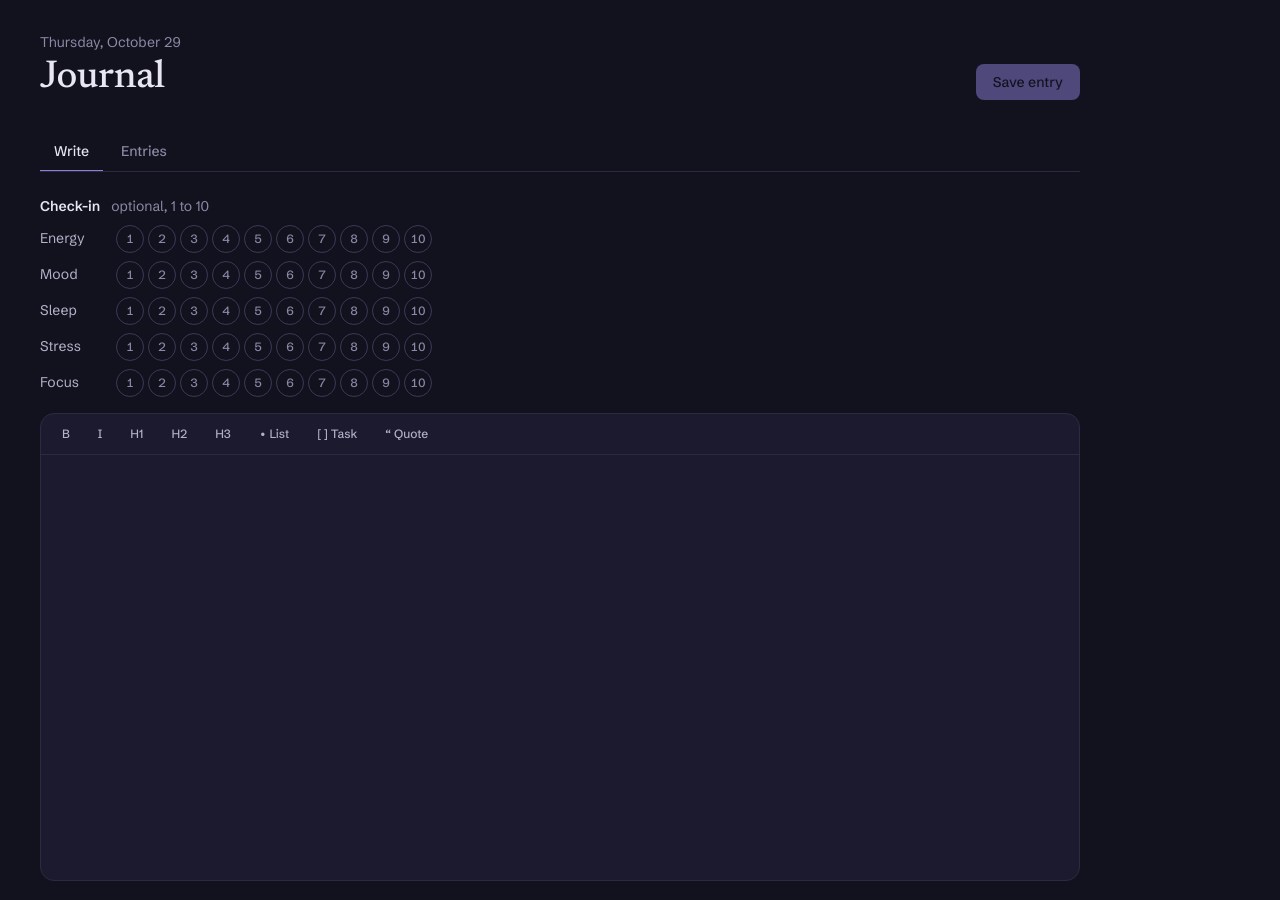
Test case: the journal pages › opens on writing alone, with the history on its own tab
Expected: the text "An older note" is not shown
// Tabs switch on pointer-down, as a real click begins.
Press the mouse on the tab "Entries" at (144, 152), box [107,132,181,172]
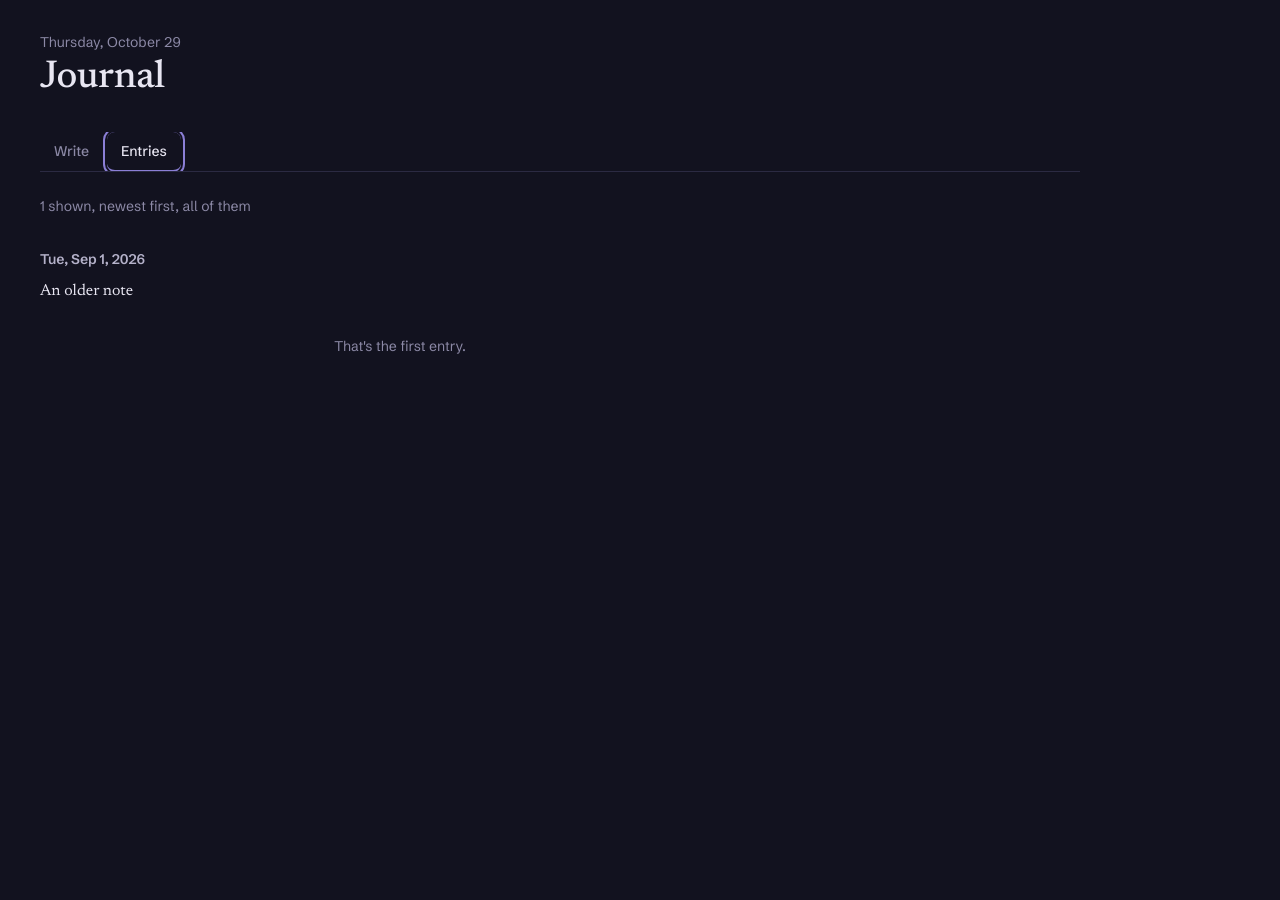
Expected: the text "An older note" is shown, [40,283,133,299]
